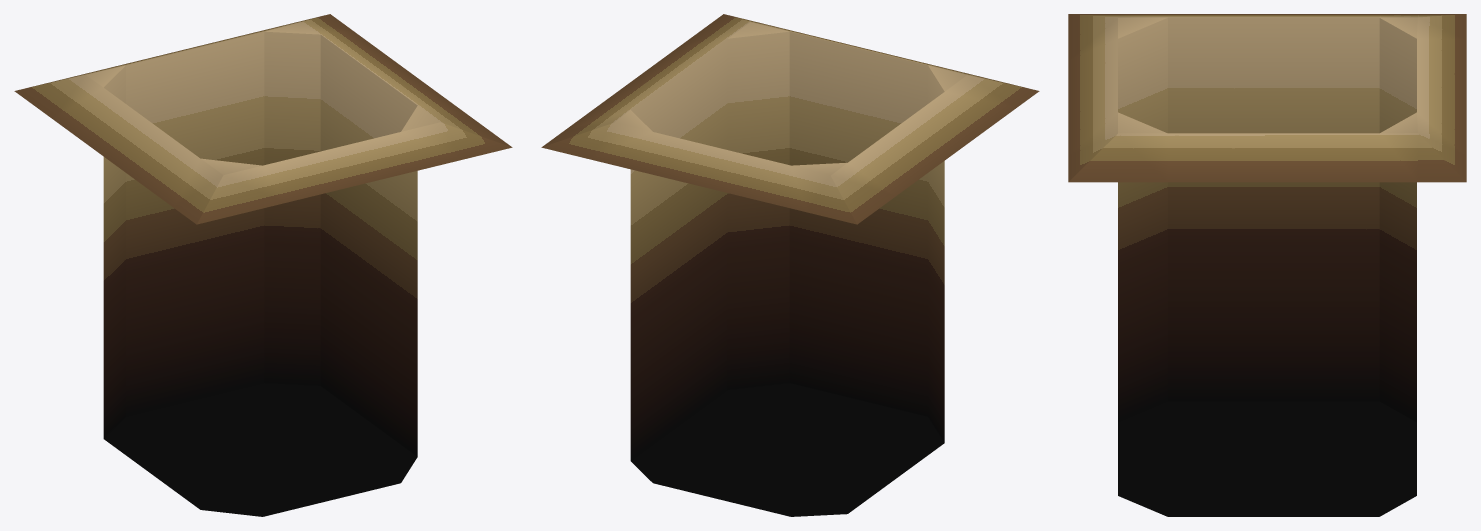
The picture shows the model from 3 angles, left to right: view 1: azimuth 30°, elevation 25°; view 2: azimuth 150°, elevation 25°; view 3: azimuth 270°, elevation 25°; orthographic projection. The views are drawn at different scales.
Bounding box in the file's own units: 2 × 2.12 × 2.
Materials: 1 (1 with a texture image).
